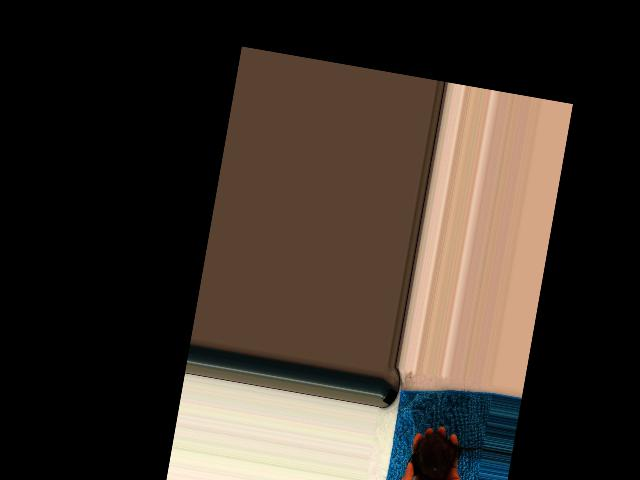beet: (404, 428, 485, 480)
